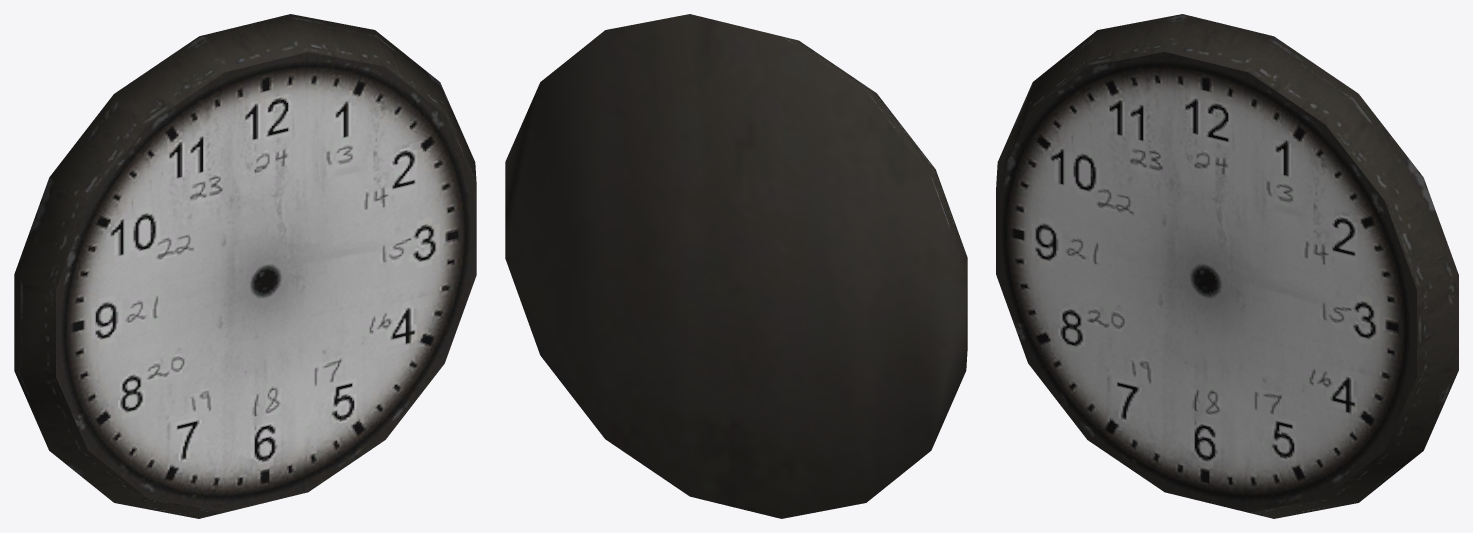
The model's file is p_dest_clock_glo01_base_LOD1.obj.
3 views of the same model, side by side, from view 1: azimuth 30°, elevation 25°; view 2: azimuth 150°, elevation 25°; view 3: azimuth 330°, elevation 25° (orthographic).
Visible parts, largest first — view 1: mtl_p_jun_clock_lrg; view 2: mtl_p_jun_clock_lrg; view 3: mtl_p_jun_clock_lrg.
Boxes of the visible parts, x1=… form: mtl_p_jun_clock_lrg: x1=14, y1=14, x2=476, y2=518; mtl_p_jun_clock_lrg: x1=505, y1=14, x2=967, y2=518; mtl_p_jun_clock_lrg: x1=996, y1=14, x2=1458, y2=518.
Size of the model in its own units: 62.39 by 62.39 by 5.08.
